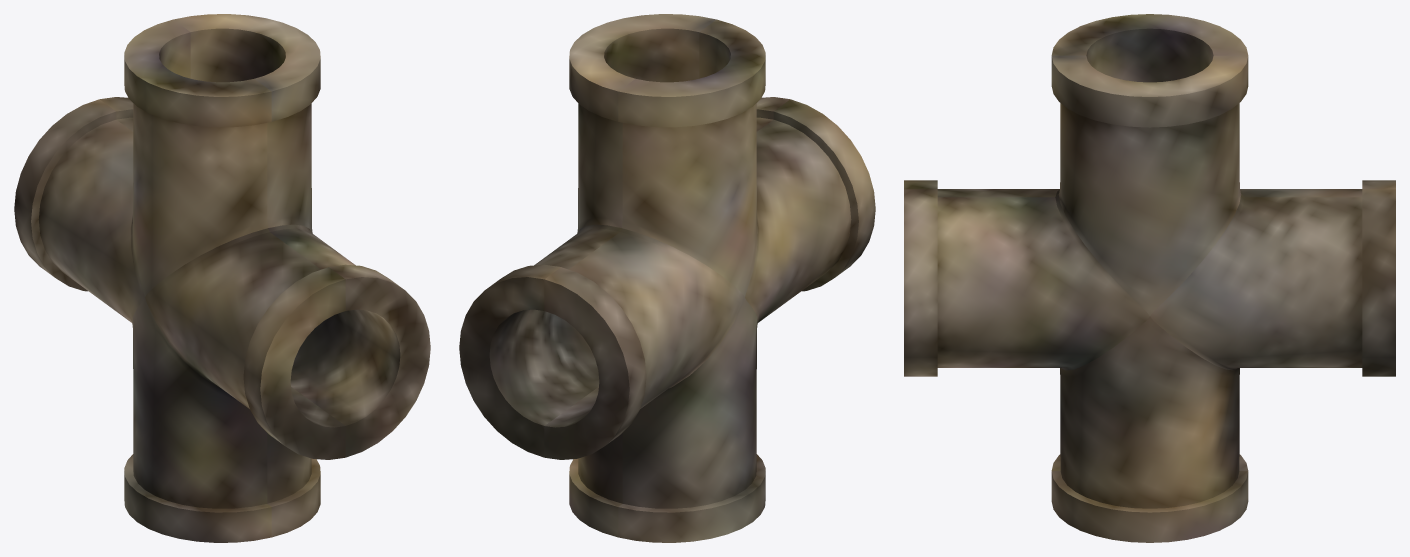
Rendered from pipe-elbow-wide.glb.
The picture shows the model from 3 angles, left to right: view 1: azimuth 30°, elevation 25°; view 2: azimuth 150°, elevation 25°; view 3: azimuth 270°, elevation 25°; orthographic projection.
Parts seen in each view (by area): view 1: pipe-elbow-wide; view 2: pipe-elbow-wide; view 3: pipe-elbow-wide.
Boxes of the visible parts, box(x1,y1,x2,y2) form: pipe-elbow-wide: box(14, 14, 430, 542); pipe-elbow-wide: box(459, 14, 875, 542); pipe-elbow-wide: box(904, 14, 1395, 542).
Bounding box in the file's own units: 0.2811 × 0.7028 × 0.7028.
1 material, 1 textured.
